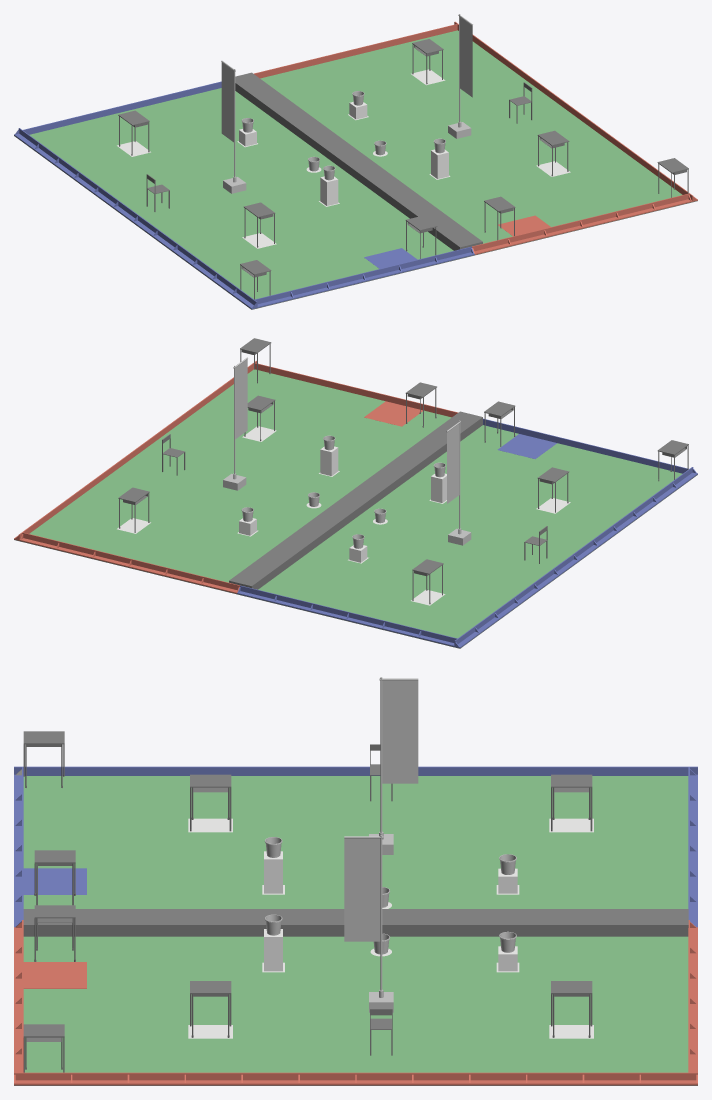
File: real_field.dae
The picture shows the model from 3 angles, top to bottom: view 1: azimuth 30°, elevation 25°; view 2: azimuth 150°, elevation 25°; view 3: azimuth 270°, elevation 25°; orthographic projection. The views are drawn at different scales.
Parts seen in each view (by area): view 1: Body1, Body1.001, Body1.002, Body1.047, Body1.046, Body1.016, Body1.044, Body1.030, Body1.106, Body1.109, Body1.110, Body1.072 (+10 smaller); view 2: Body1, Body1.001, Body1.002, Body1.044, Body1.030, Body1.016, Body1.046, Body1.047, Body1.106, Body1.109, Body1.072, Body1.071 (+6 smaller); view 3: Body1, Body1.001, Body1.016, Body1.002, Body1.106, Body1.109, Body1.071, Body1.072, Body1.030, Body1.046, Body1.044, Body1.047 (+13 smaller).
Part boxes in pixels (bbox=[...]): Body1: bbox=[29, 30, 682, 299]; Body1.001: bbox=[235, 72, 482, 250]; Body1.002: bbox=[14, 128, 257, 309]; Body1.047: bbox=[472, 193, 692, 254]; Body1.046: bbox=[254, 246, 474, 307]; Body1.016: bbox=[454, 21, 697, 201]; Body1.044: bbox=[254, 24, 457, 78]; Body1.030: bbox=[23, 81, 221, 134]; Body1.106: bbox=[221, 60, 235, 177]; Body1.109: bbox=[458, 14, 472, 122]; Body1.110: bbox=[14, 135, 697, 309]; Body1.072: bbox=[364, 248, 417, 268]; Body1: bbox=[29, 369, 682, 638]; Body1.001: bbox=[229, 411, 482, 589]; Body1.002: bbox=[454, 467, 697, 647]; Body1.044: bbox=[19, 532, 239, 593]; Body1.030: bbox=[237, 585, 457, 646]; Body1.016: bbox=[14, 360, 256, 540]; Body1.046: bbox=[483, 418, 687, 473]; Body1.047: bbox=[255, 363, 458, 417]; Body1.106: bbox=[446, 420, 460, 528]; Body1.109: bbox=[233, 357, 247, 474]; Body1.072: bbox=[497, 434, 556, 459]; Body1.071: bbox=[364, 401, 422, 426]; Body1: bbox=[23, 776, 688, 1072]; Body1.001: bbox=[23, 909, 688, 936]; Body1.016: bbox=[14, 1072, 697, 1085]; Body1.002: bbox=[14, 766, 697, 775]; Body1.106: bbox=[379, 677, 418, 832]; Body1.109: bbox=[344, 835, 383, 990]; Body1.071: bbox=[23, 962, 86, 988]; Body1.072: bbox=[23, 868, 86, 894]; Body1.030: bbox=[688, 767, 697, 927]; Body1.046: bbox=[14, 767, 23, 927]; Body1.044: bbox=[688, 920, 697, 1072]; Body1.047: bbox=[14, 920, 23, 1072].
Bounding box in the file's own units: 11.7 × 10.8 × 3.01.
